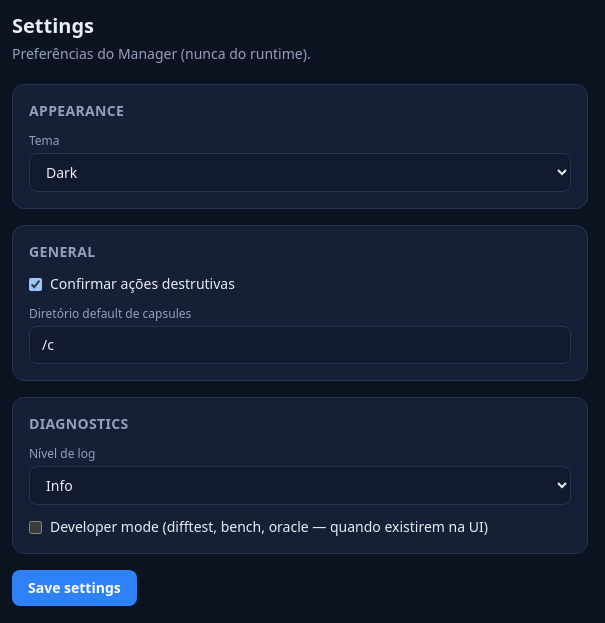
Settings save round-trips through the backend
Check: the heading "Appearance" is shown, box [29, 101, 124, 120]
Click the button "Save settings". click: [74, 588]
box: [12, 570, 137, 606]
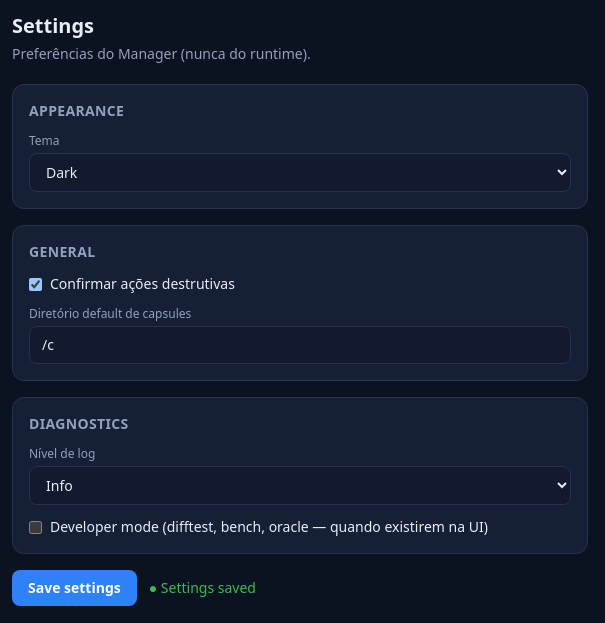
Check: the text "● Settings saved" is shown, box [149, 578, 256, 598]
